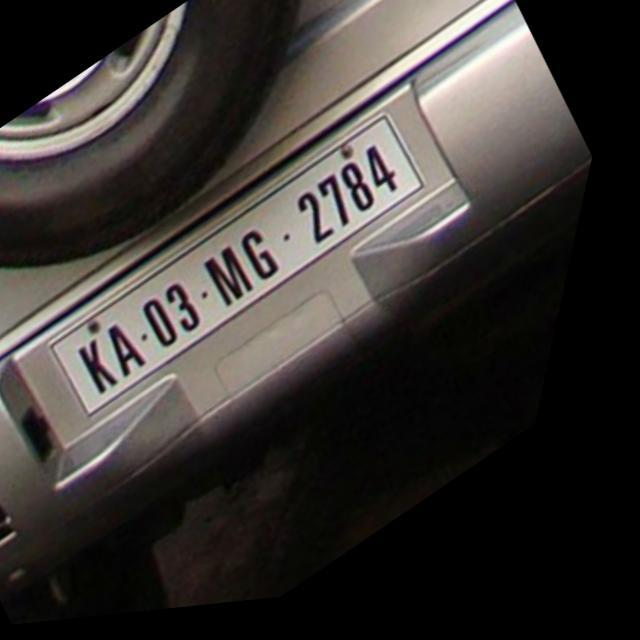license_plate: (52, 122, 445, 423)
